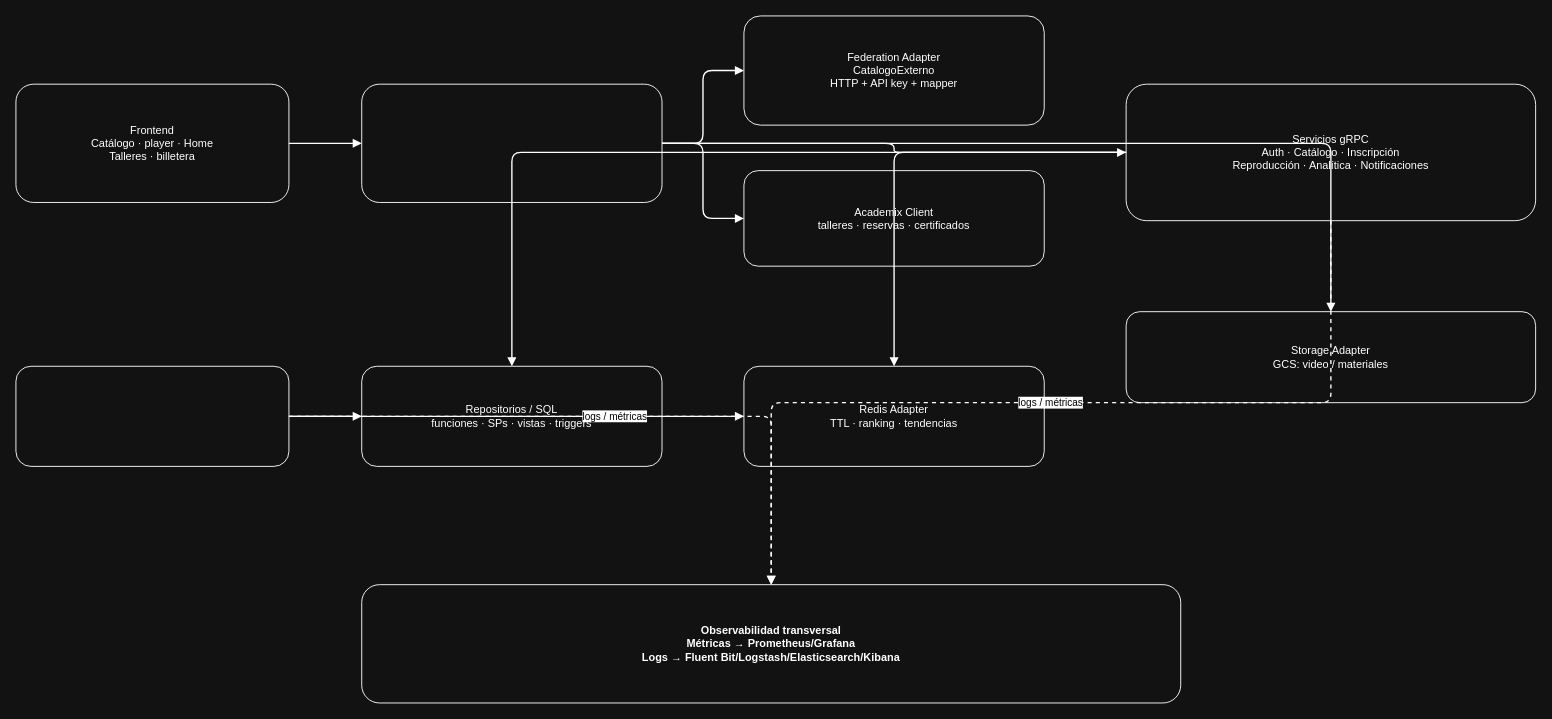
Image size: 1552x719. Some labels were removed from this diagram. Here are the shapes that lost their labels. From the top down, the centre of each, then its label:
At point (511, 142): "API Gateway REST · autenticación · RBAC validación y manejo de errores".
At point (152, 415): "CronJobs purga · tendencias · repaso".
